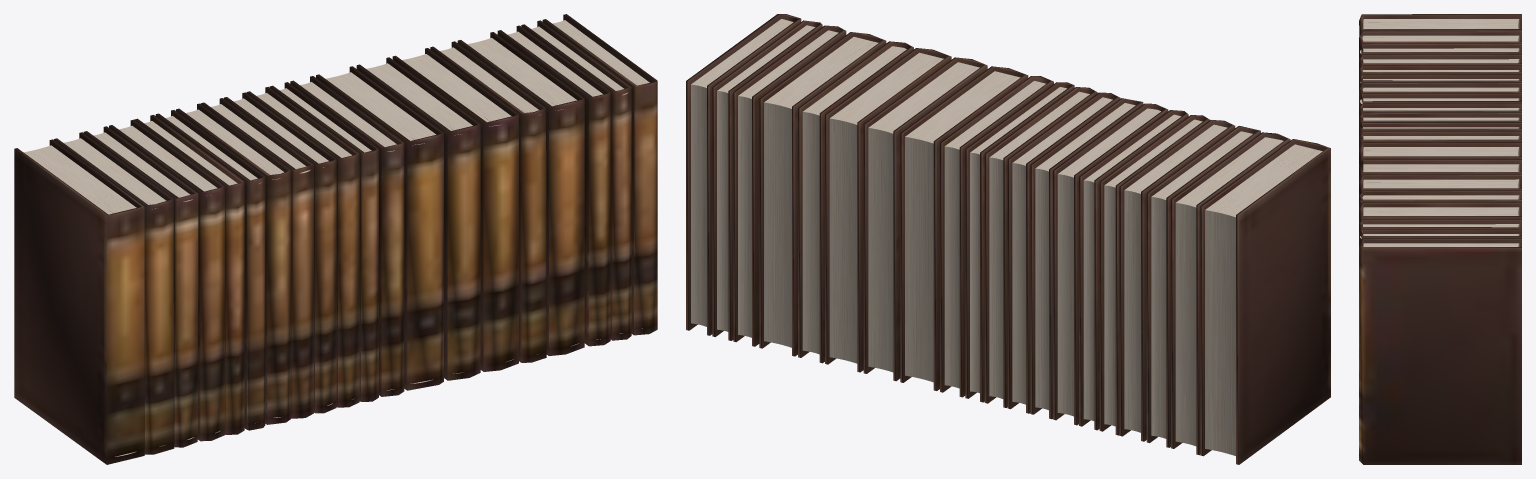
The model's file is book_encyclopedia_set_01.glb.
3 views of the same model, side by side, from view 1: azimuth 30°, elevation 25°; view 2: azimuth 150°, elevation 25°; view 3: azimuth 270°, elevation 25° (orthographic). The views are drawn at different scales.
Parts seen in each view (by area): view 1: book_encyclopedia_set_01_book01; view 2: book_encyclopedia_set_01_book01; view 3: book_encyclopedia_set_01_book01.
Part boxes in pixels (bbox=[...]): book_encyclopedia_set_01_book01: bbox=[14, 14, 657, 464]; book_encyclopedia_set_01_book01: bbox=[686, 14, 1330, 464]; book_encyclopedia_set_01_book01: bbox=[1359, 14, 1521, 464].
Size of the model in its own units: 0.5513 by 0.2374 by 0.1619.
2 materials, 2 textured.
